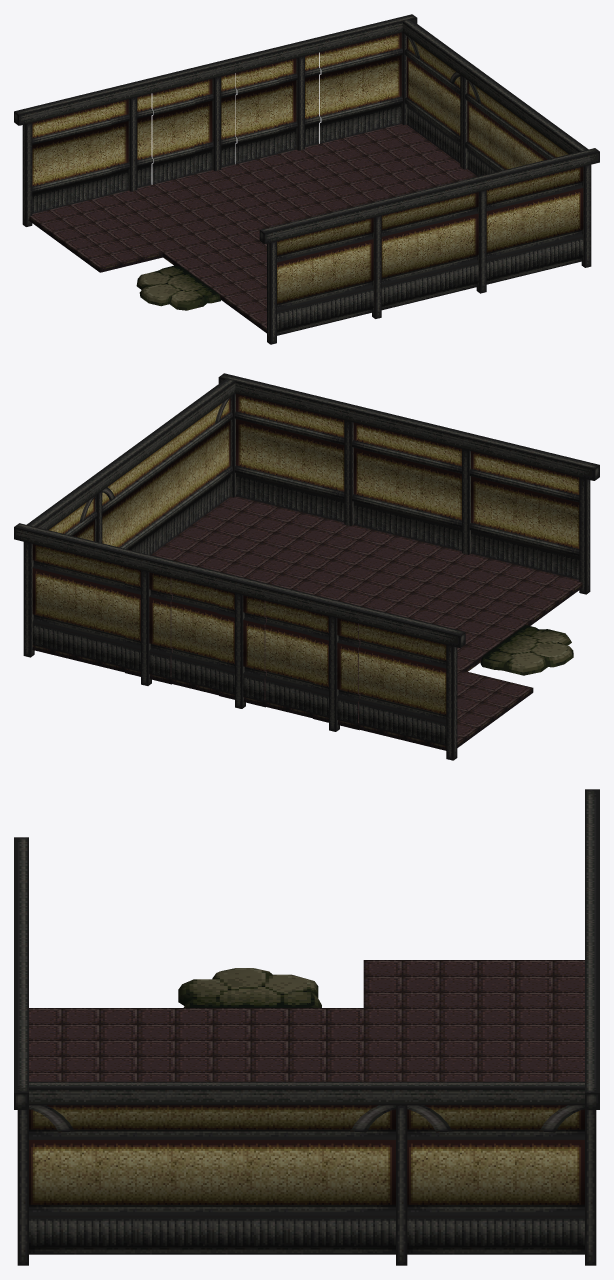
The model's file is EnvBdgMD_Forest_A_Indoor_House_H.FBX.
3 views of the same model, one above another, from view 1: azimuth 30°, elevation 25°; view 2: azimuth 150°, elevation 25°; view 3: azimuth 270°, elevation 25° (orthographic). The views are drawn at different scales.
Parts seen in each view (by area): view 1: EnvBdgMD_Forest_A_Indoor_House_H; view 2: EnvBdgMD_Forest_A_Indoor_House_H; view 3: EnvBdgMD_Forest_A_Indoor_House_H.
Part boxes in pixels (<box>): EnvBdgMD_Forest_A_Indoor_House_H: <box>14,14,599,344</box>; EnvBdgMD_Forest_A_Indoor_House_H: <box>14,373,599,760</box>; EnvBdgMD_Forest_A_Indoor_House_H: <box>14,789,599,1265</box>.
Bounding box in the file's own units: 1900 × 520 × 1550.
